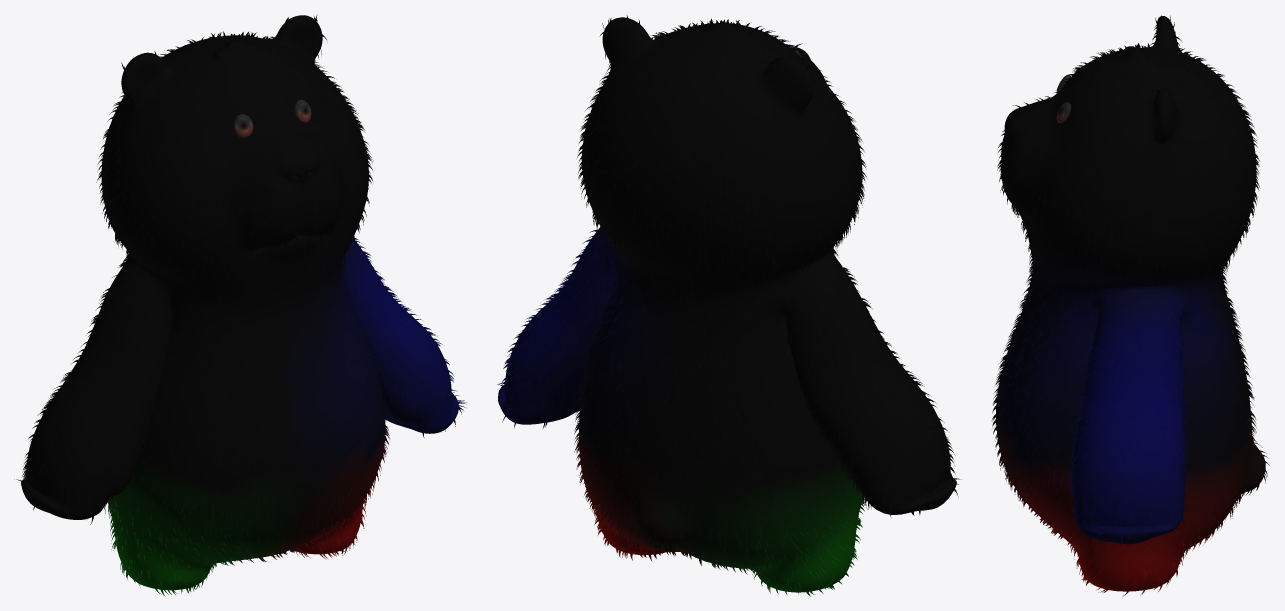
The model's file is bear_layered_v1.glb.
The picture shows the model from 3 angles, left to right: view 1: azimuth 30°, elevation 25°; view 2: azimuth 150°, elevation 25°; view 3: azimuth 270°, elevation 25°; orthographic projection. The views are drawn at different scales.
Parts seen in each view (by area): view 1: Body, LayeredCurvedGroom, BrownBear_Normal; view 2: Body, LayeredCurvedGroom; view 3: Body, LayeredCurvedGroom.
Part boxes in pixels (x1,y1,x2,y2): Body: (21,15,458,590); LayeredCurvedGroom: (14,14,466,596); BrownBear_Normal: (233,99,311,137); Body: (498,17,956,592); LayeredCurvedGroom: (497,15,960,596); Body: (996,16,1265,591); LayeredCurvedGroom: (991,15,1269,596).
Bounding box in the file's own units: 2.17 × 2.48 × 1.25.
Materials: 3 (3 with a texture image).
